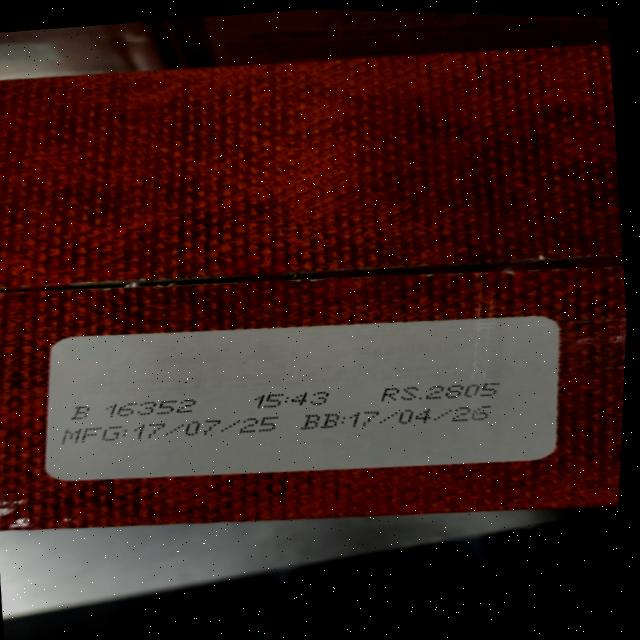BB: (303, 394, 499, 439)
Batch: (66, 392, 202, 425)
MFG: (60, 406, 281, 452)
RS: (380, 375, 505, 408)
TimeStamp: (252, 386, 335, 412)
